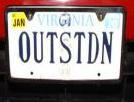0: (17, 31, 31, 63)
D: (87, 31, 100, 66)
N: (100, 30, 112, 65)
S: (58, 30, 72, 64)
T: (45, 30, 58, 64), (73, 31, 86, 65)
U: (31, 30, 45, 64)
